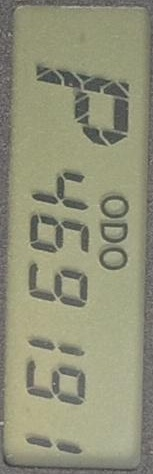1: (23, 434, 83, 455), (25, 336, 86, 356)
4: (29, 169, 89, 211)
6: (28, 213, 89, 255)
9: (25, 359, 86, 407), (27, 261, 89, 308)
X: (32, 64, 129, 149), (99, 194, 130, 219), (98, 247, 128, 271), (98, 222, 128, 243)
